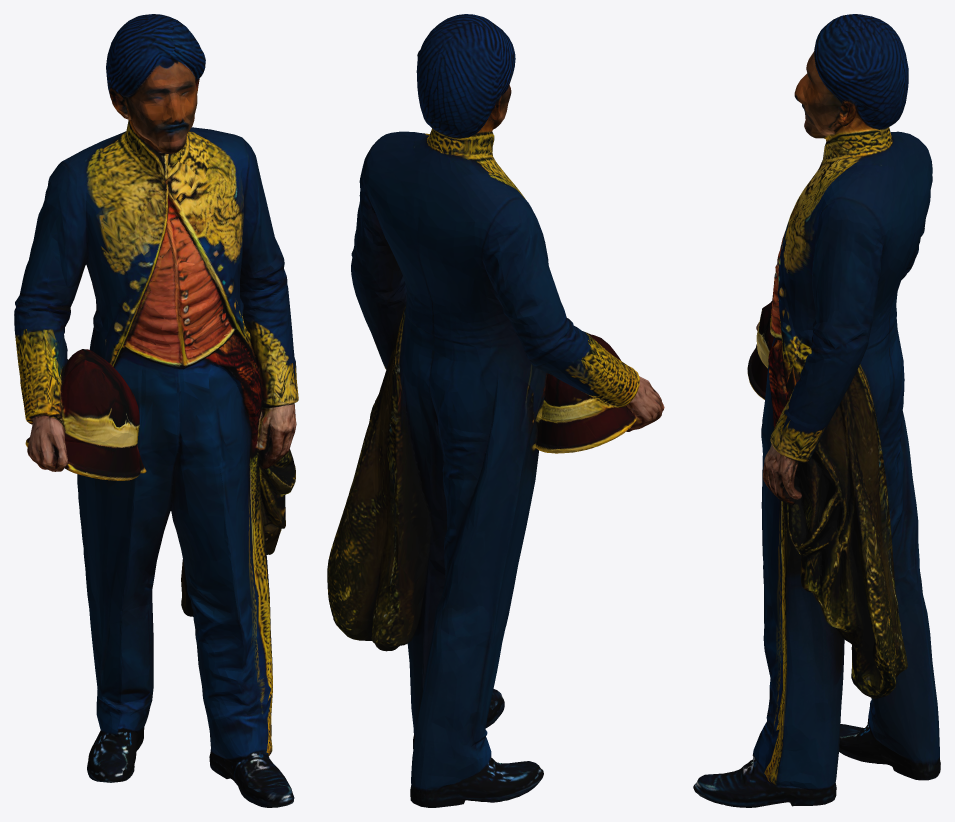
The picture shows the model from 3 angles, left to right: view 1: azimuth 30°, elevation 25°; view 2: azimuth 150°, elevation 25°; view 3: azimuth 270°, elevation 25°; orthographic projection.
Visible parts, largest first — view 1: tripo_node_518d0bf6-4223-4670-8835-b3f82ffe4941; view 2: tripo_node_518d0bf6-4223-4670-8835-b3f82ffe4941; view 3: tripo_node_518d0bf6-4223-4670-8835-b3f82ffe4941.
Boxes of the visible parts, left/top/right/bottom form: tripo_node_518d0bf6-4223-4670-8835-b3f82ffe4941: left=14, top=14, right=298, bottom=807; tripo_node_518d0bf6-4223-4670-8835-b3f82ffe4941: left=327, top=14, right=664, bottom=807; tripo_node_518d0bf6-4223-4670-8835-b3f82ffe4941: left=693, top=14, right=940, bottom=807.
Bounding box in the file's own units: 0.3933 × 0.9998 × 0.2979.
Materials: 1 (1 with a texture image).
